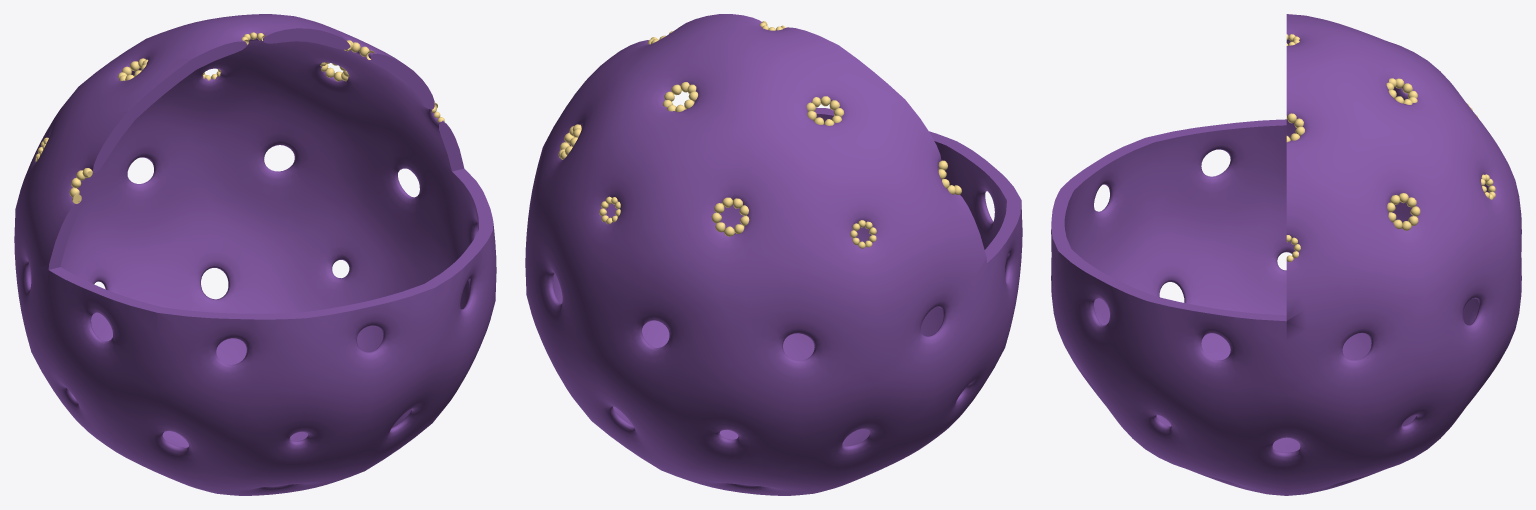
File: involucro nucleare.glb
3 renders of one model, left to right at view 1: azimuth 30°, elevation 25°; view 2: azimuth 150°, elevation 25°; view 3: azimuth 270°, elevation 25°, orthographic. The views are drawn at different scales.
Visible parts, largest first — view 1: Icosphere, Icosphere.002; view 2: Icosphere, Icosphere.002; view 3: Icosphere, Icosphere.002.
Part boxes in pixels (x1=…): Icosphere: x1=14, y1=14, x2=496, y2=495; Icosphere.002: x1=35, y1=32, x2=444, y2=203; Icosphere: x1=525, y1=14, x2=1022, y2=495; Icosphere.002: x1=558, y1=21, x2=961, y2=248; Icosphere: x1=1051, y1=14, x2=1521, y2=495; Icosphere.002: x1=1286, y1=34, x2=1495, y2=261.
Size of the model in its own units: 2.19 by 2.18 by 2.15.
